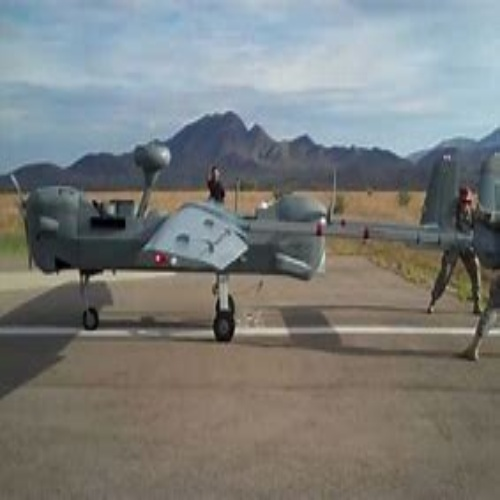uav54: (7, 144, 500, 335)
